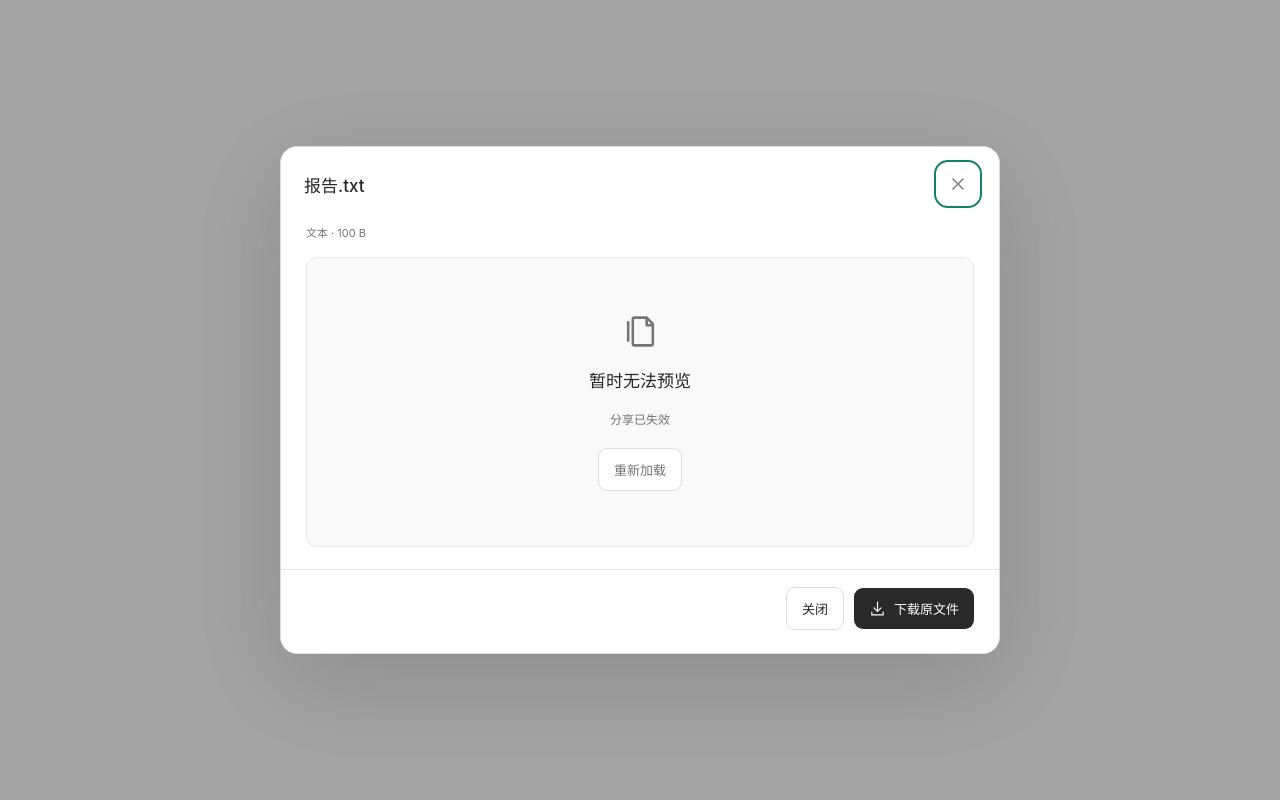
Test: 预览对话框 › 权限失败显示错误并发出事件，重新加载可恢复
Expected: the message "分享已失效" is shown, left=610, top=409, right=670, bottom=431
Click the button with class "secondary-button" showing "重新加载": (640, 470) left=598, top=448, right=682, bottom=491
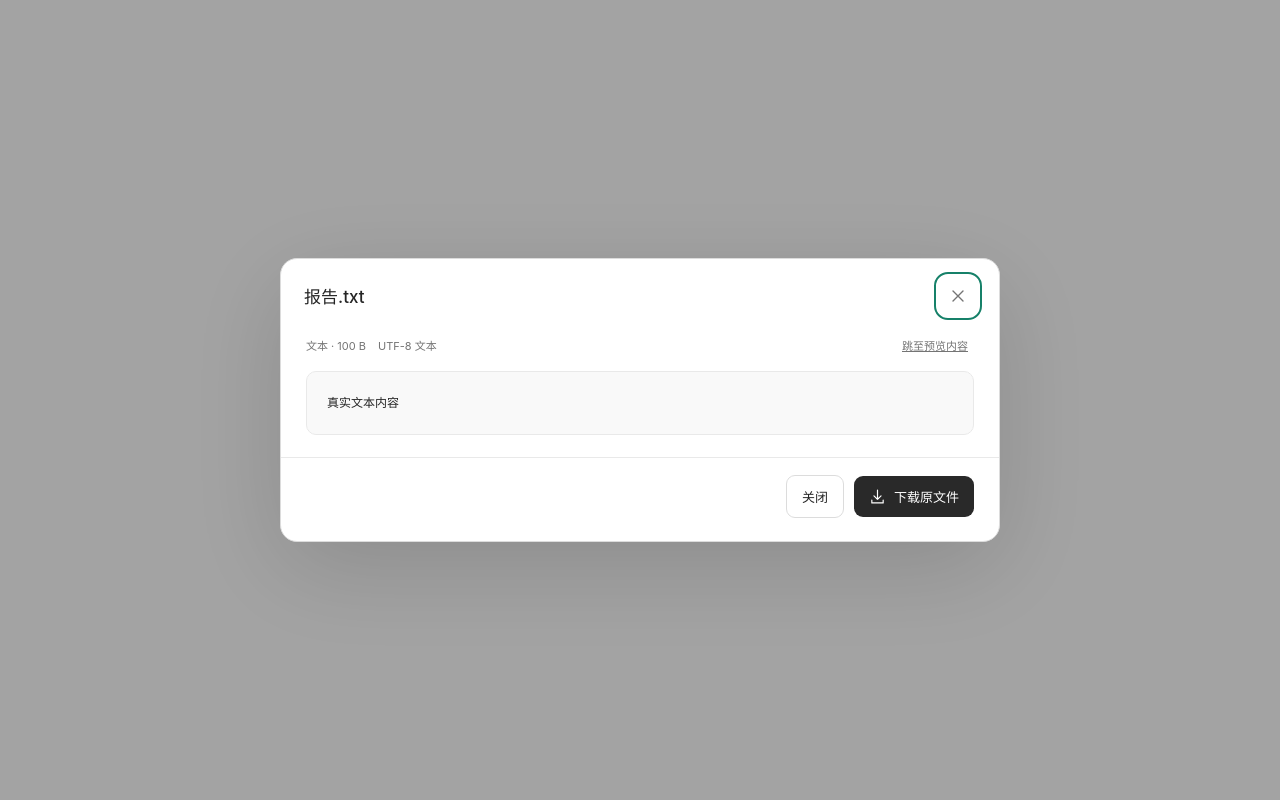
Now the text "真实文本内容" is shown, box left=327, top=396, right=399, bottom=410
